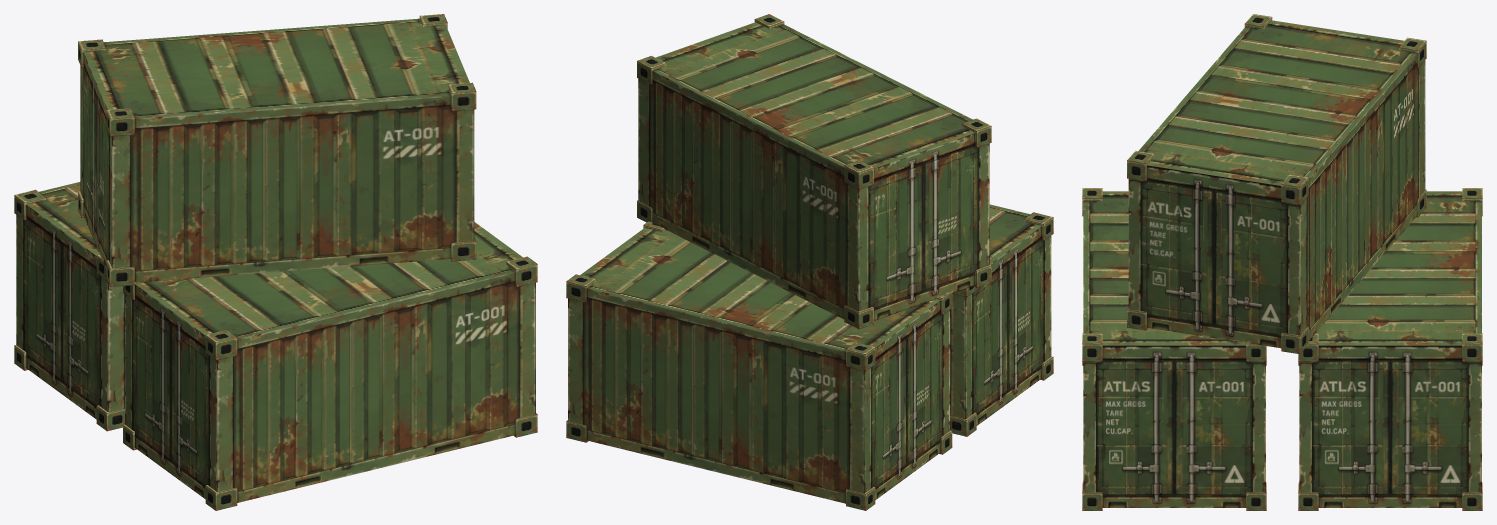
The model's file is simple_low_poly_ship_container.glb.
3 views of the same model, side by side, from view 1: azimuth 30°, elevation 25°; view 2: azimuth 150°, elevation 25°; view 3: azimuth 270°, elevation 25° (orthographic). The views are drawn at different scales.
Parts seen in each view (by area): view 1: Container.003, Container.002, Container.001; view 2: Container.003, Container.001, Container.002; view 3: Container.003, Container.001, Container.002.
Boxes of the visible parts, left/top/right/bottom form: Container.003: left=78, top=14, right=476, bottom=286; Container.002: left=123, top=222, right=537, bottom=510; Container.001: left=14, top=182, right=124, bottom=431; Container.003: left=637, top=14, right=991, bottom=329; Container.001: left=566, top=221, right=952, bottom=510; Container.002: left=950, top=204, right=1053, bottom=436; Container.003: left=1127, top=14, right=1426, bottom=353; Container.001: left=1298, top=188, right=1482, bottom=510; Container.002: left=1082, top=188, right=1266, bottom=510.
Size of the model in its own units: 6.67 by 5.95 by 6.51.
Materials: 1 (1 with a texture image).
